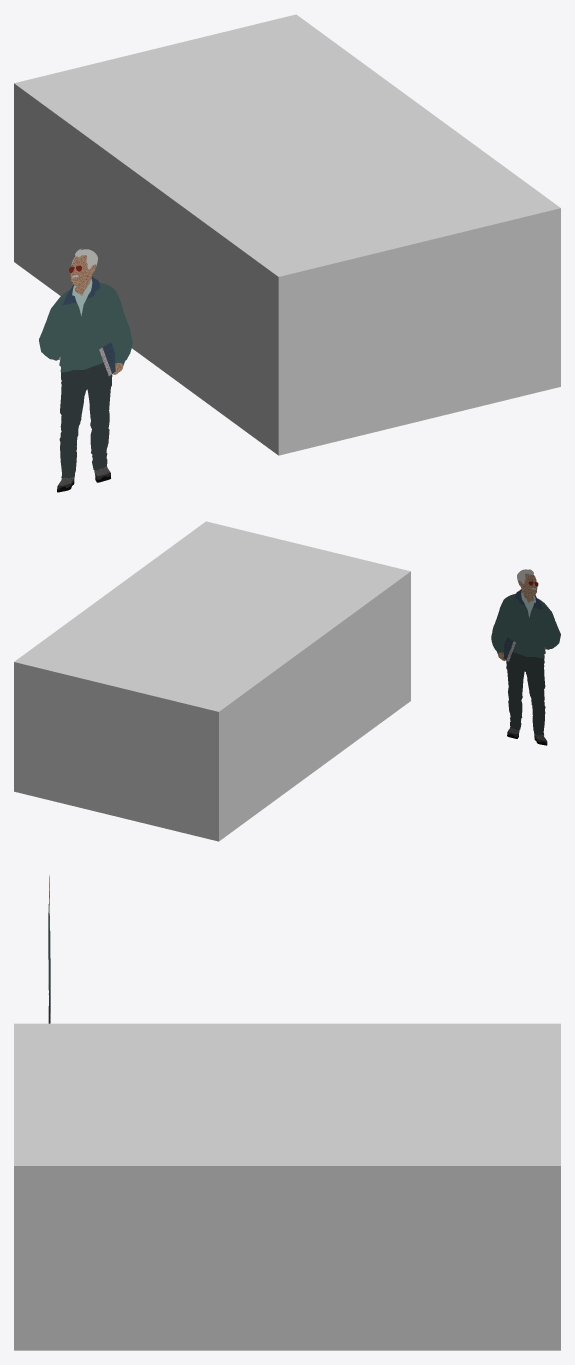
Rendered from test sketchup.dae.
3 views of the same model, one above another, from view 1: azimuth 30°, elevation 25°; view 2: azimuth 150°, elevation 25°; view 3: azimuth 270°, elevation 25° (orthographic). The views are drawn at different scales.
Parts seen in each view (by area): view 1: SketchUp, Steve (×3); view 2: SketchUp, Steve (×2); view 3: SketchUp.
Boxes of the visible parts, x1,y1,x2,y2 form: SketchUp: (14,14,560,455); Steve (×3): (39,255,132,478); SketchUp: (14,521,410,841); Steve (×2): (491,593,560,735); SketchUp: (14,1023,560,1350).
Bounding box in the file's own units: 148 × 134 × 66.71.
